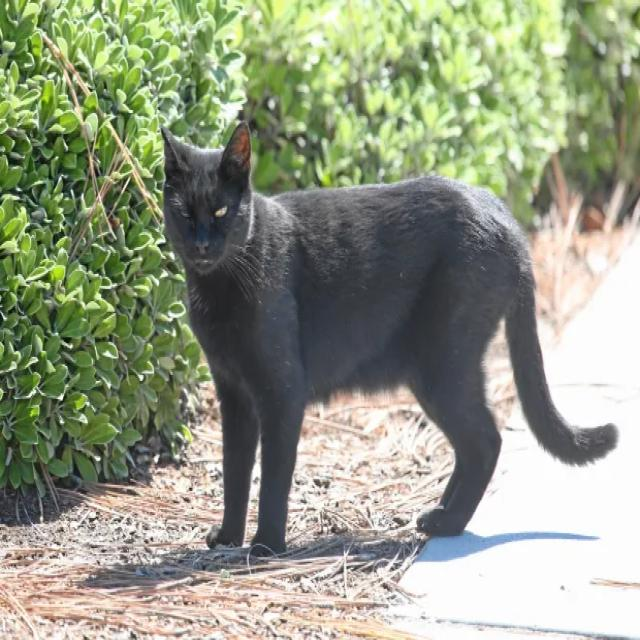cat: (163, 122, 618, 553)
